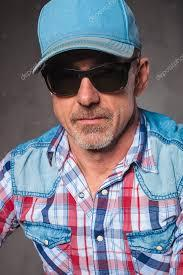cap: (23, 0, 144, 70)
sunglasses: (36, 59, 138, 104)
